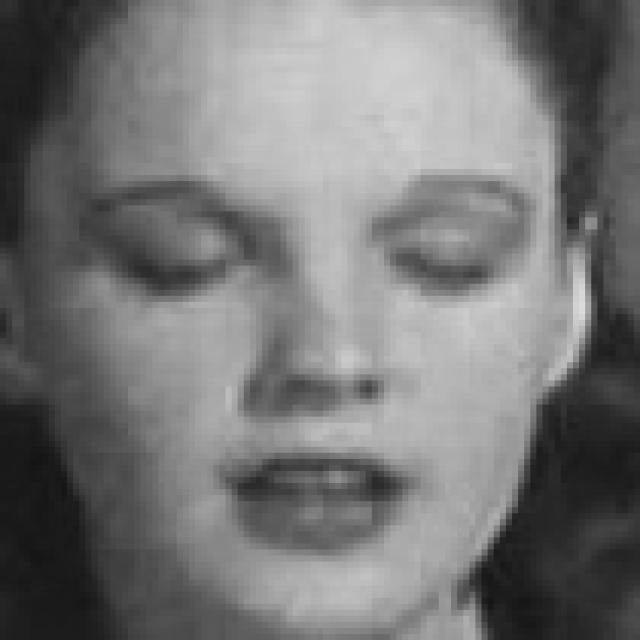real: (45, 1, 557, 634), (111, 182, 523, 306)
